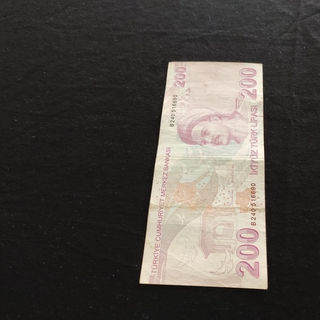200TLBack: (138, 60, 268, 289)
